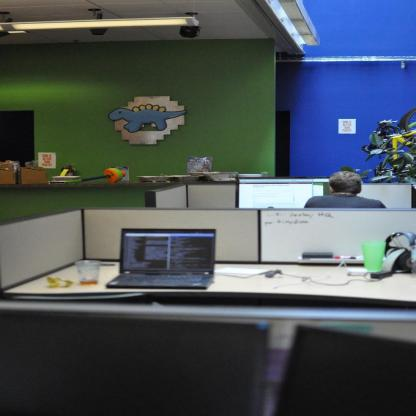board: (107, 225, 216, 291), (362, 240, 385, 271)
